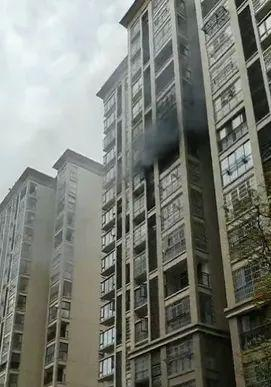smoke: (121, 101, 210, 158)
